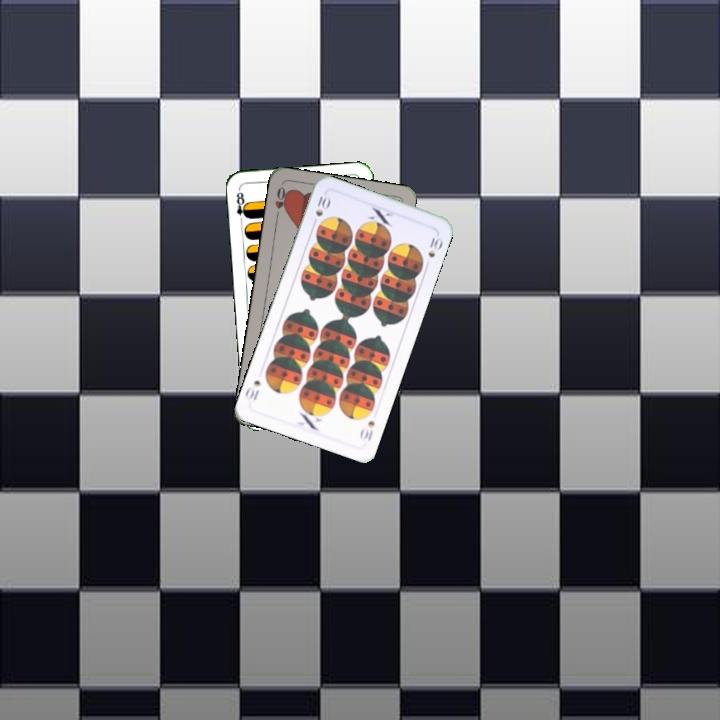E8: (232, 185, 250, 226)
HO: (271, 182, 291, 222)
S10: (308, 189, 333, 229), (356, 417, 377, 444)
